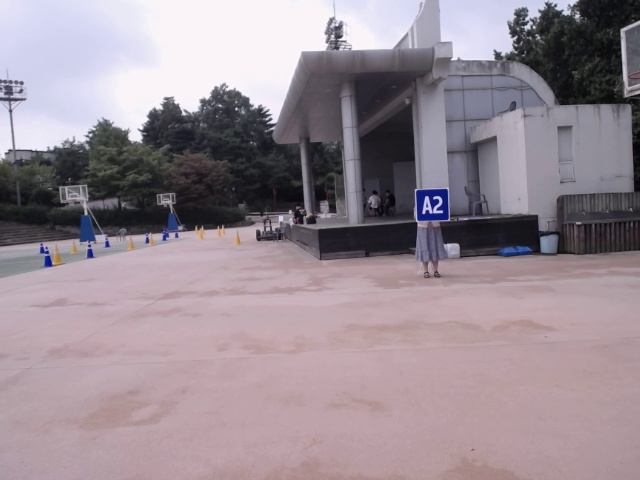delivery_a2: (416, 189, 449, 221)
